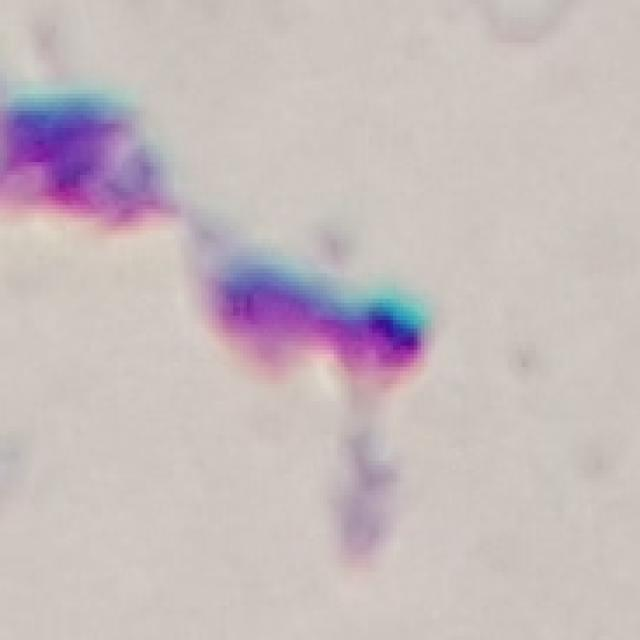non-sperm: (195, 245, 431, 392)
